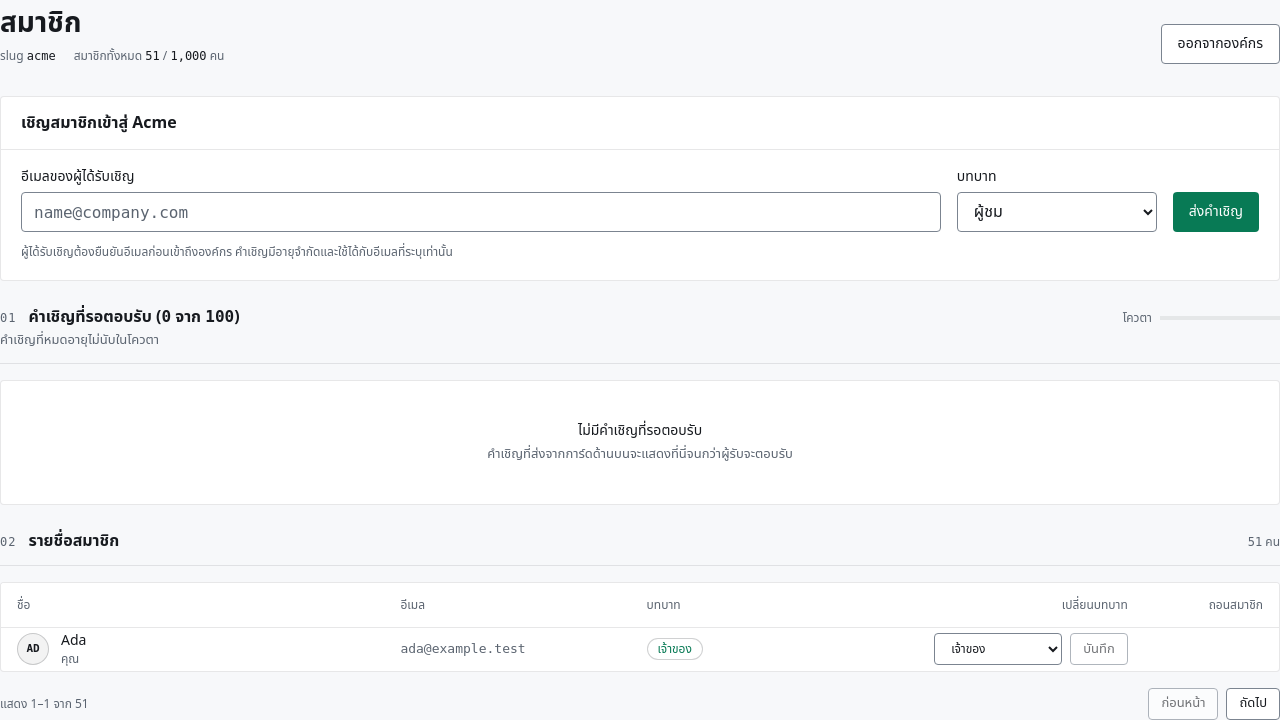
OrganizationMembersPage › returns to first-page rows by keyboard after the next page fails
(page scrolled)
Expected: the row with test id "member-row-member-1" is shown, [1, 627, 1279, 671]
Expected: the text with test id "member-name" reads "Ada", [61, 630, 86, 651]
Click the button with test id "members-next" at (1253, 704), box [1226, 688, 1279, 719]
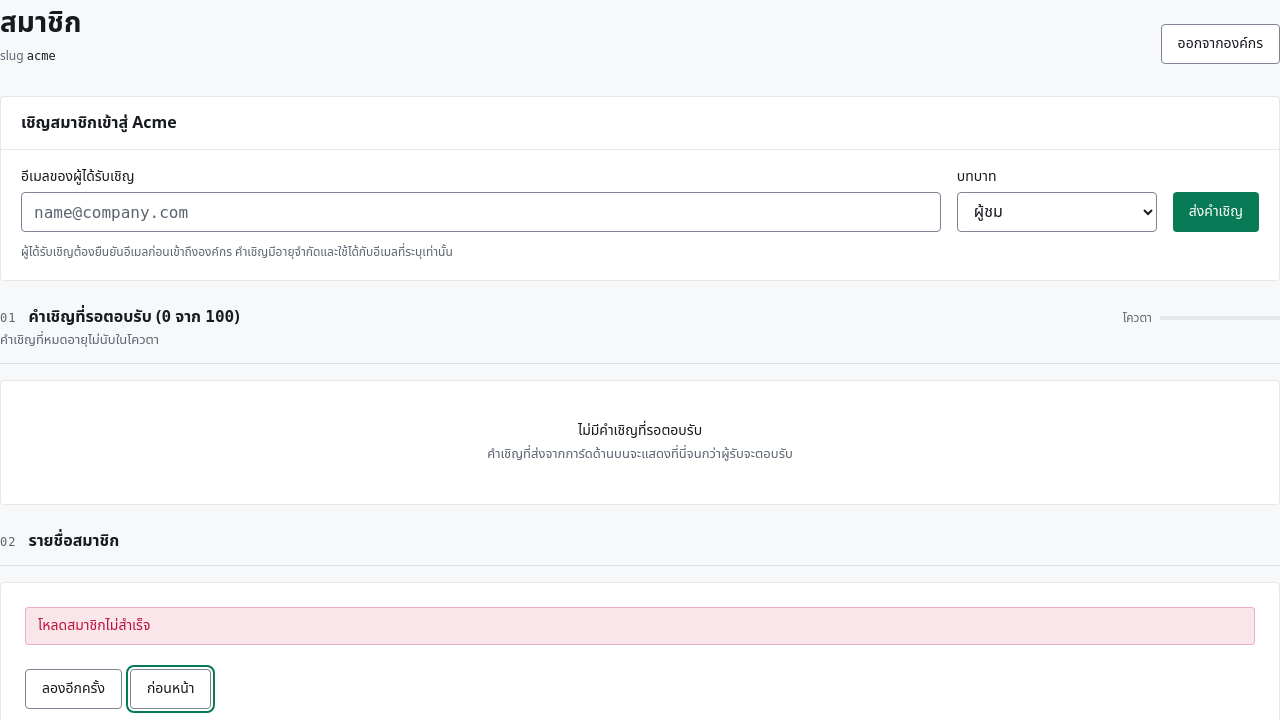
Expected: the message "โหลดสมาชิกไม่สำเร็จ" is shown, [25, 607, 1255, 645]
Expected: the element with test id "members-total-count" is gone
Expected: the button with test id "members-list-retry" is enabled, [25, 669, 122, 709]
Press Enter
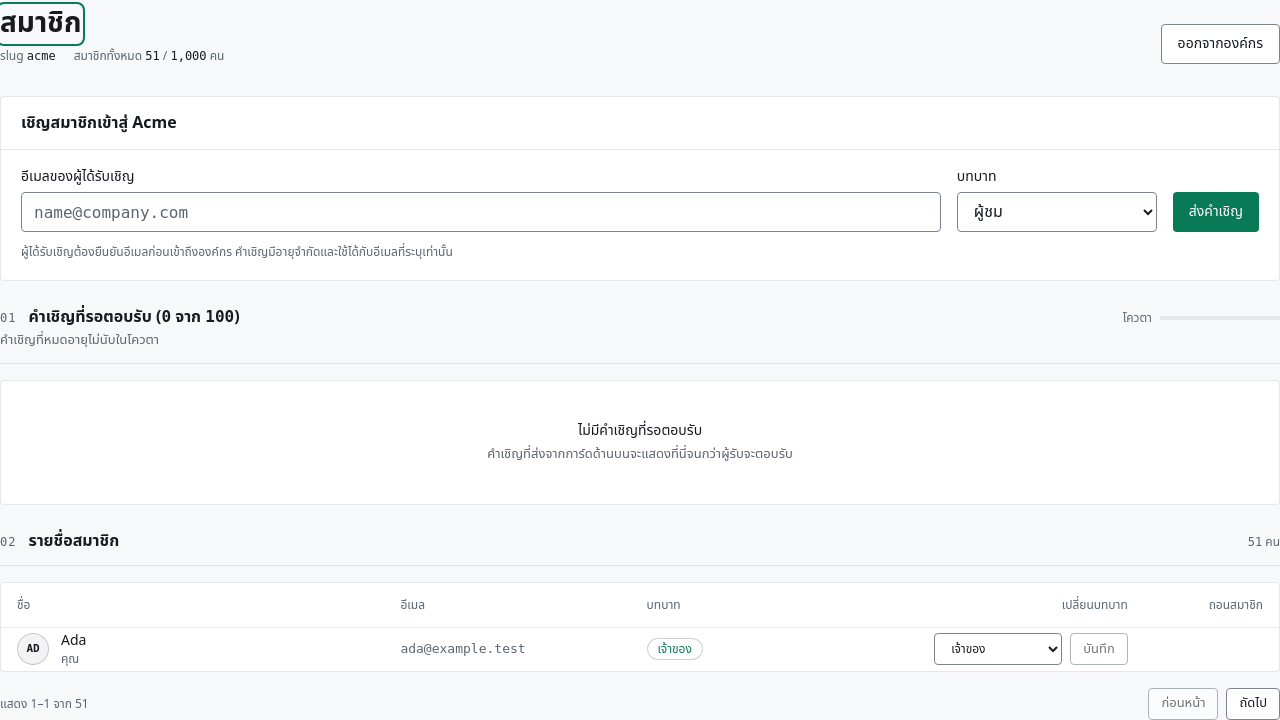
Expected: the row with test id "member-row-member-1" is shown, [1, 627, 1279, 671]
Expected: the text with test id "member-name" reads "Ada", [61, 630, 86, 651]
Expected: the text with test id "members-pagination-summary" reads "แสดง 1–1 จาก 51", [0, 696, 89, 712]
